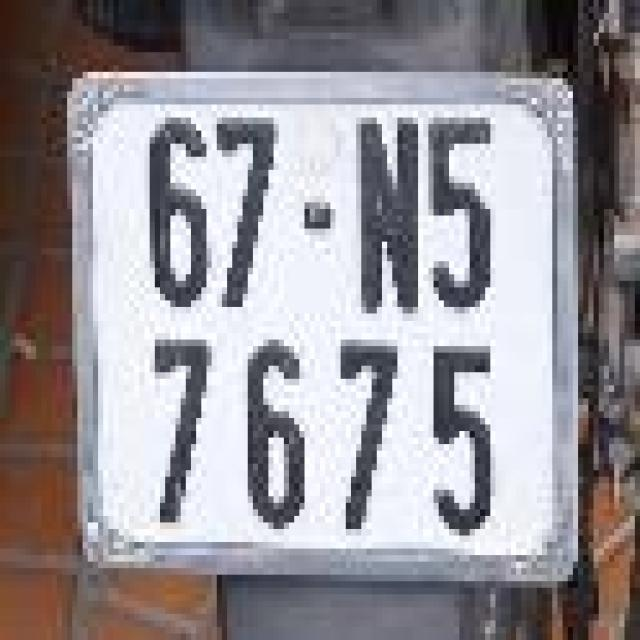5: (423, 101, 501, 323), (428, 333, 506, 536)
6: (132, 108, 214, 310), (240, 330, 312, 532)
7: (211, 101, 284, 317), (328, 330, 400, 532), (147, 327, 214, 529)
N: (348, 101, 426, 330)
